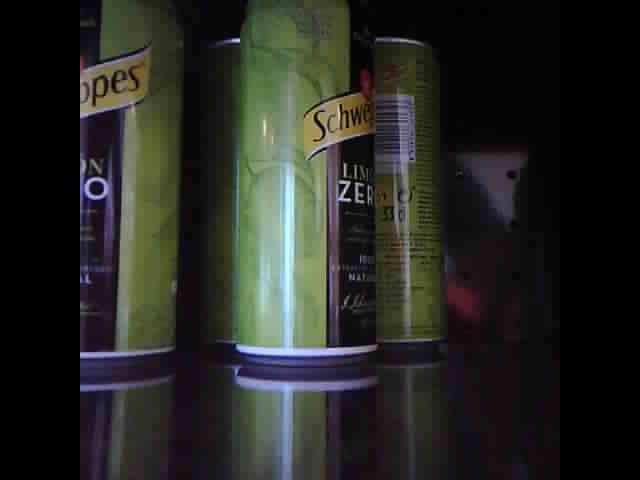schweppes: (232, 1, 377, 362), (79, 1, 183, 363), (364, 29, 445, 353)
